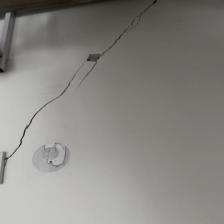Medium: (14, 23, 140, 137)
